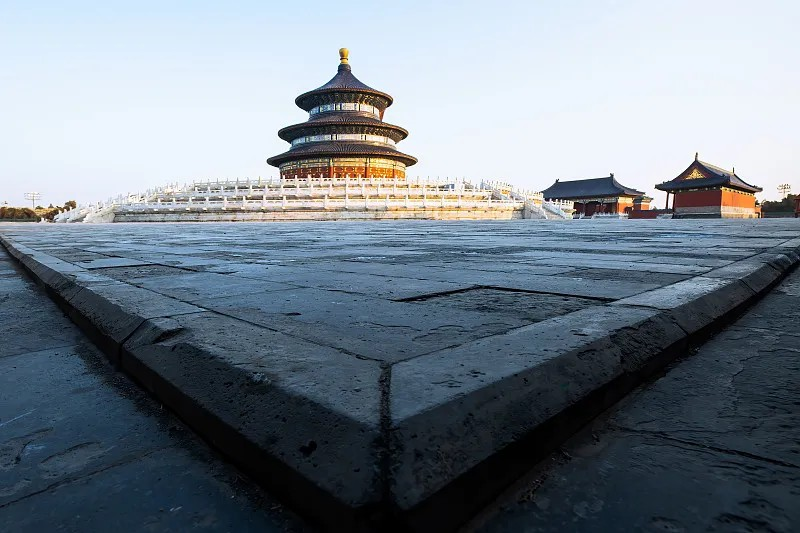Heaven: (265, 48, 418, 181)
